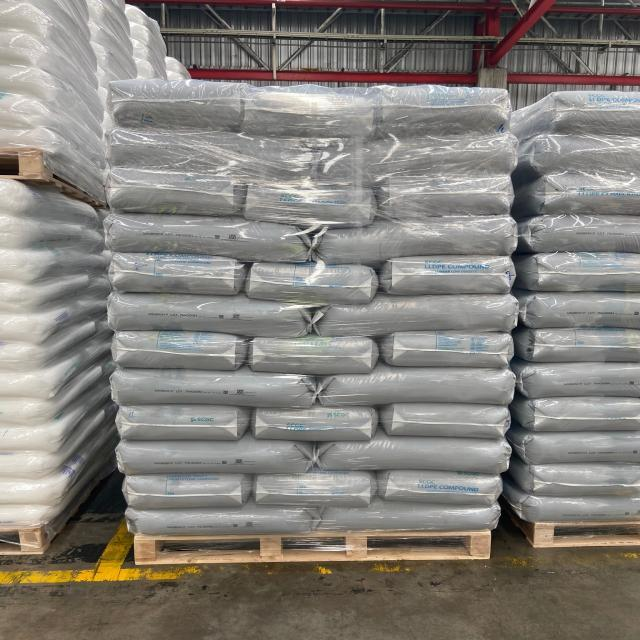gunny_bag: (103, 128, 312, 182), (319, 134, 519, 183), (105, 217, 311, 257), (108, 79, 243, 131), (382, 87, 513, 138), (104, 170, 245, 216), (111, 376, 311, 406), (116, 442, 312, 472), (244, 95, 376, 139), (244, 185, 377, 228), (378, 178, 514, 220), (125, 507, 320, 536), (324, 376, 512, 404), (326, 226, 512, 254), (109, 303, 299, 330), (113, 255, 236, 296), (114, 332, 239, 370), (320, 443, 504, 468), (378, 470, 503, 506), (329, 306, 514, 330), (385, 258, 514, 292), (319, 508, 500, 531), (118, 406, 242, 439), (386, 334, 513, 366), (253, 339, 373, 372), (255, 408, 373, 441), (257, 266, 370, 300), (255, 475, 373, 507), (124, 478, 248, 506), (392, 406, 508, 435)
